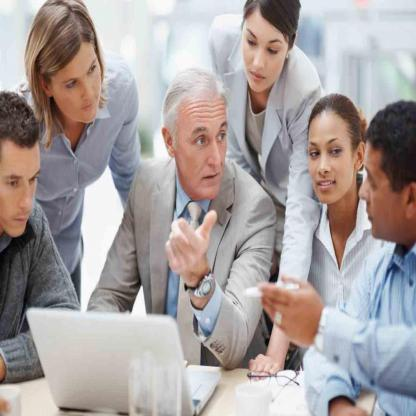face: (182, 100, 229, 198), (357, 150, 398, 239), (308, 120, 352, 202), (4, 143, 42, 237), (55, 47, 102, 121), (245, 14, 289, 93)
